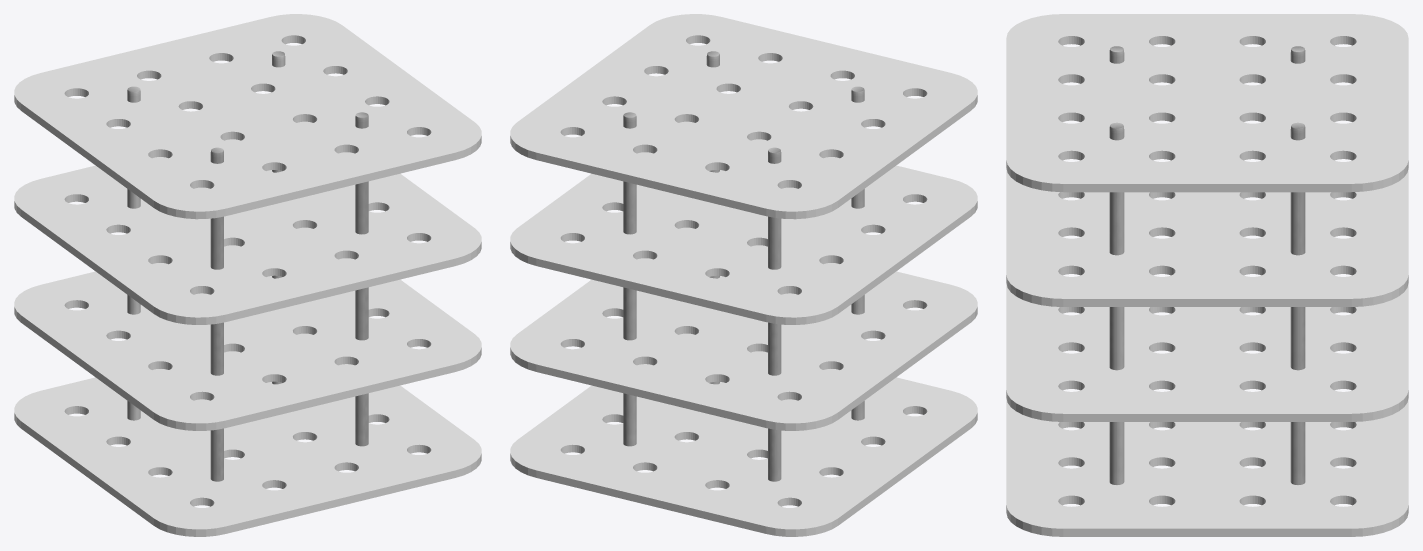
Rendered from 3dfourconnectFIXED.obj.
3 renders of one model, left to right at view 1: azimuth 30°, elevation 25°; view 2: azimuth 150°, elevation 25°; view 3: azimuth 270°, elevation 25°, orthographic. The views are drawn at different scales.
Parts seen in each view (by area): view 1: faces.001_Cube.001, supports_Cylinder; view 2: faces.001_Cube.001, supports_Cylinder; view 3: faces.001_Cube.001, supports_Cylinder.
Part boxes in pixels (<box>): faces.001_Cube.001: <box>14,14,481,536</box>; supports_Cylinder: <box>127,51,368,481</box>; faces.001_Cube.001: <box>510,14,977,536</box>; supports_Cylinder: <box>623,51,864,481</box>; faces.001_Cube.001: <box>1006,14,1408,536</box>; supports_Cylinder: <box>1109,46,1305,484</box>.
Bounding box in the file's own units: 22.2 × 22.45 × 22.2.
2 materials, 2 textured.
